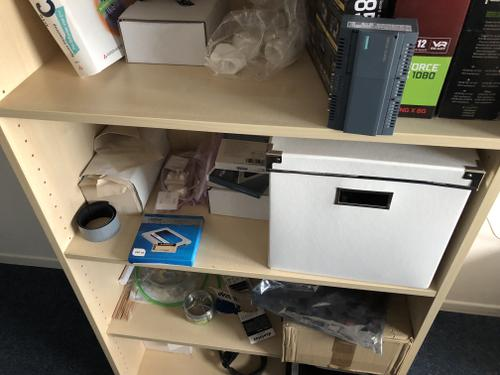device: (327, 15, 419, 137)
